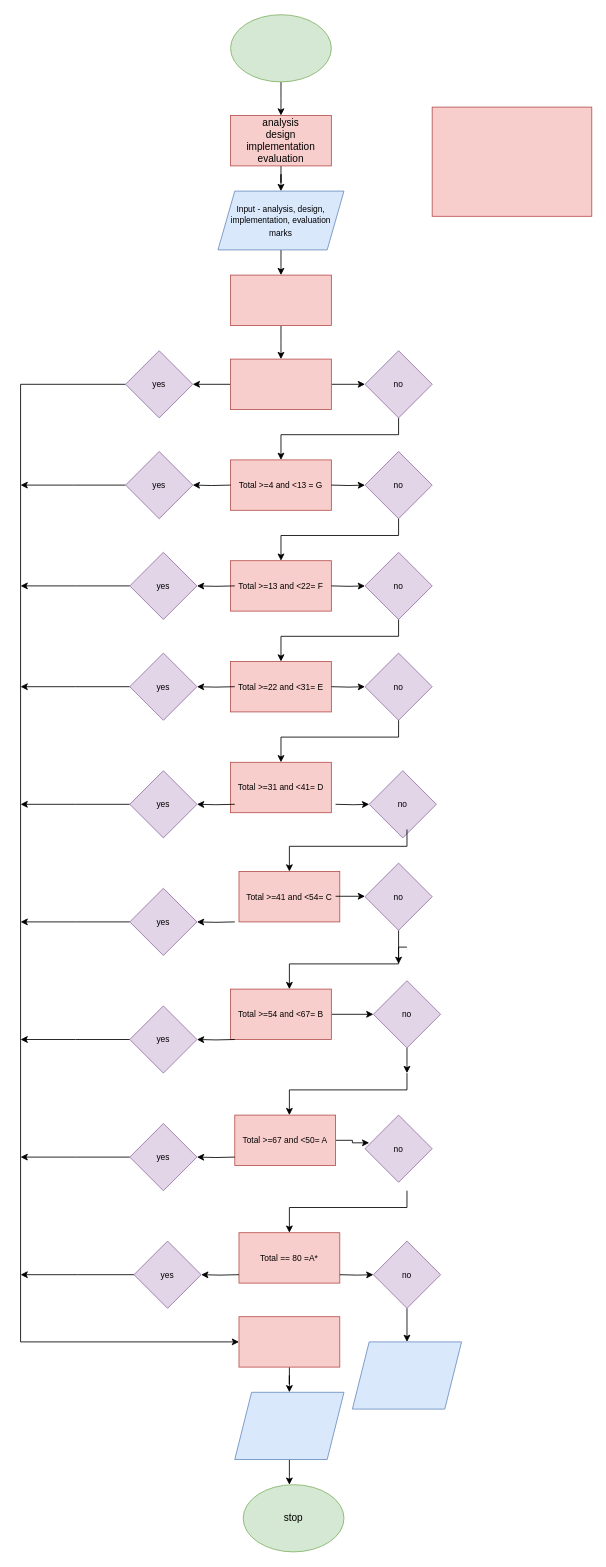
The diagram is 606 pixels wide and 1567 high, and some of its shapes have lost their labels. The centre of each missing label's shape, as x and y in pixels:
"grades: 0 - U 4 - G 13 - F 22 - E 31 - D 41 - C 54 - B 67 - A 80 - A*" belongs at (x=511, y=161).
"marks to next band = grade and total" belongs at (x=289, y=1341).
"Output - total marks, grade, how many more marks needed to get to the next band" belongs at (x=289, y=1425).
"output error" belongs at (x=407, y=1375).
"start" belongs at (x=280, y=48).
"Total = analysis + design + implementation + evaluation" belongs at (x=280, y=300).
"Total >=0 and <4 = U" belongs at (x=280, y=384).
